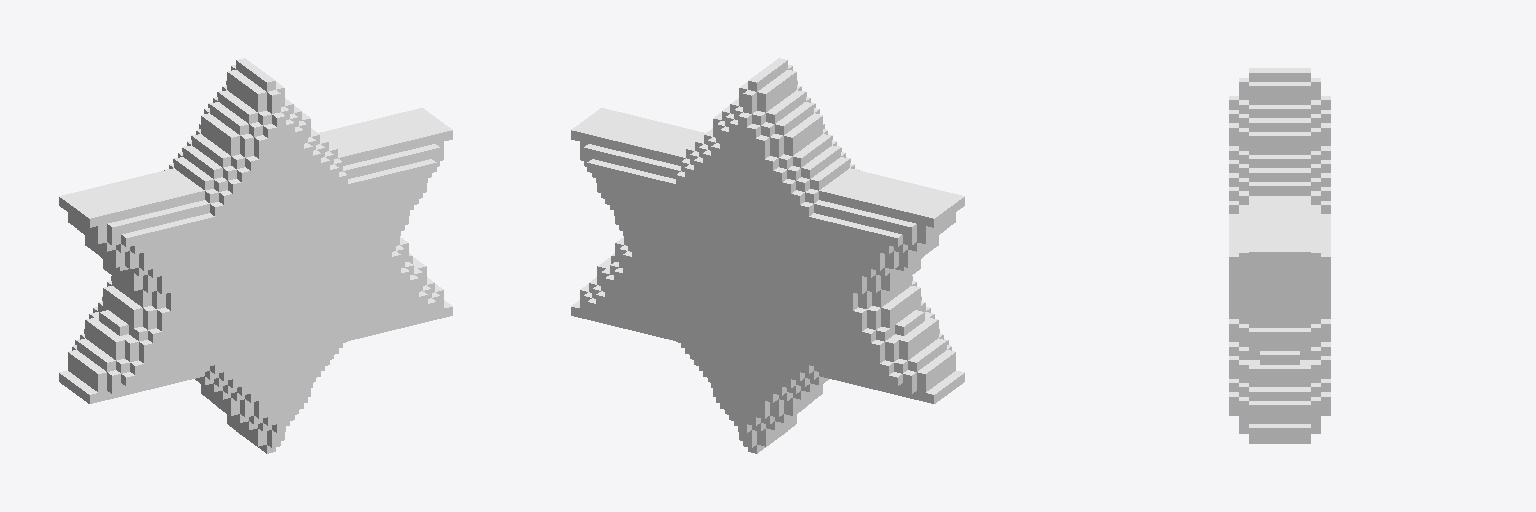
File: PowerItem.obj
The picture shows the model from 3 angles: view 1: azimuth 30°, elevation 25°; view 2: azimuth 150°, elevation 25°; view 3: azimuth 270°, elevation 25°; orthographic projection.
Size of the model in its own units: 41 by 40 by 10.